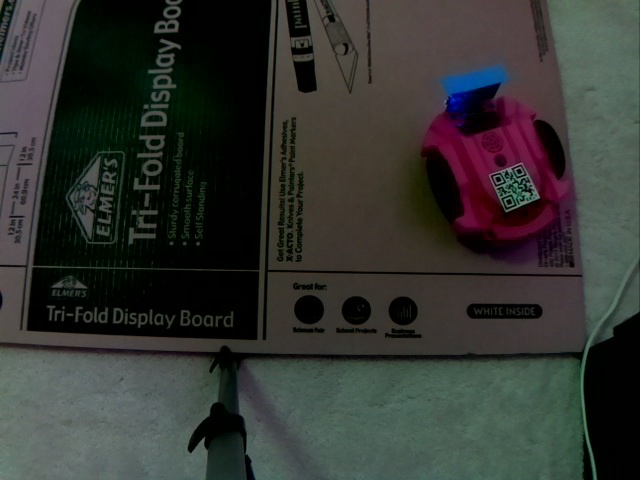chassis: (419, 63, 573, 248)
qr: (488, 161, 541, 214)
